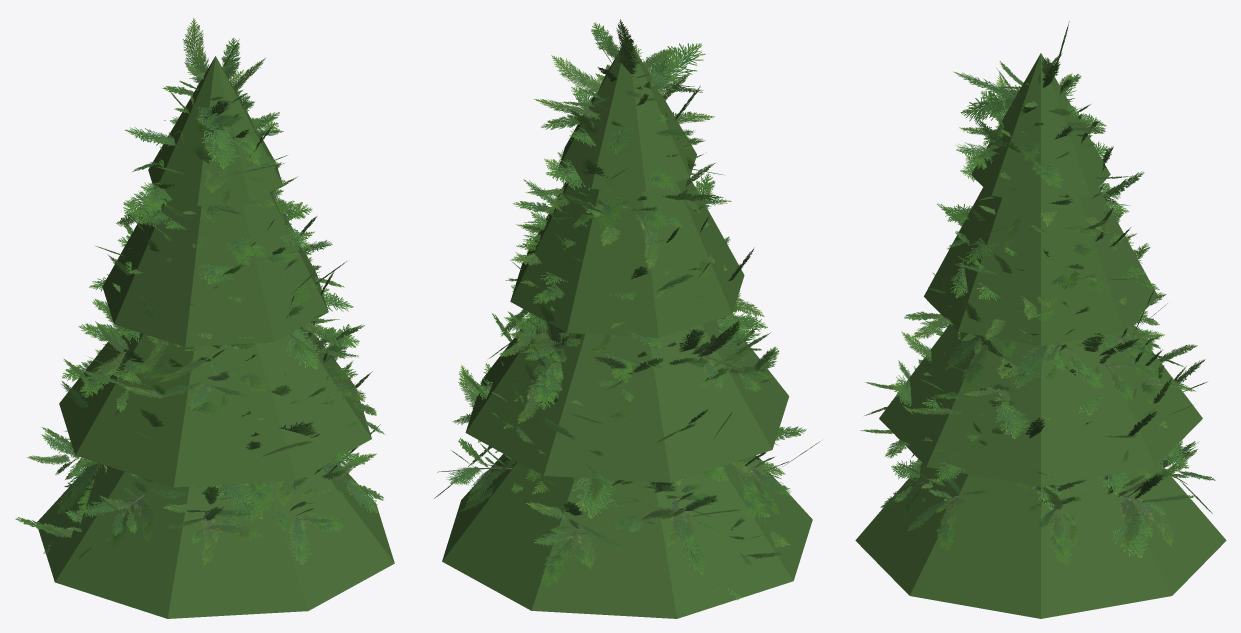
File: firs.glb
The picture shows the model from 3 angles, left to right: view 1: azimuth 30°, elevation 25°; view 2: azimuth 150°, elevation 25°; view 3: azimuth 270°, elevation 25°; orthographic projection. The views are drawn at different scales.
Visible parts, largest first — view 1: tall-3-leaf, tall-2-leaf, tall-1-leaf, tall-0-leaf; view 2: tall-3-leaf, tall-2-leaf, tall-1-leaf, tall-0-leaf; view 3: tall-3-leaf, tall-2-leaf, tall-1-leaf, tall-0-leaf.
Part boxes in pixels (left/top/right/bottom): tall-3-leaf: left=37, top=56, right=394, bottom=618; tall-2-leaf: left=15, top=18, right=385, bottom=560; tall-1-leaf: left=32, top=39, right=377, bottom=565; tall-0-leaf: left=48, top=54, right=368, bottom=550; tall-3-leaf: left=442, top=39, right=812, bottom=618; tall-2-leaf: left=437, top=19, right=819, bottom=600; tall-1-leaf: left=434, top=22, right=805, bottom=571; tall-0-leaf: left=445, top=36, right=796, bottom=564; tall-3-leaf: left=855, top=53, right=1226, bottom=618; tall-2-leaf: left=860, top=21, right=1212, bottom=563; tall-1-leaf: left=878, top=52, right=1215, bottom=546; tall-0-leaf: left=891, top=53, right=1204, bottom=532.
Size of the model in its own units: 6.84 by 10.14 by 6.4.
Materials: 4 (2 with a texture image).
